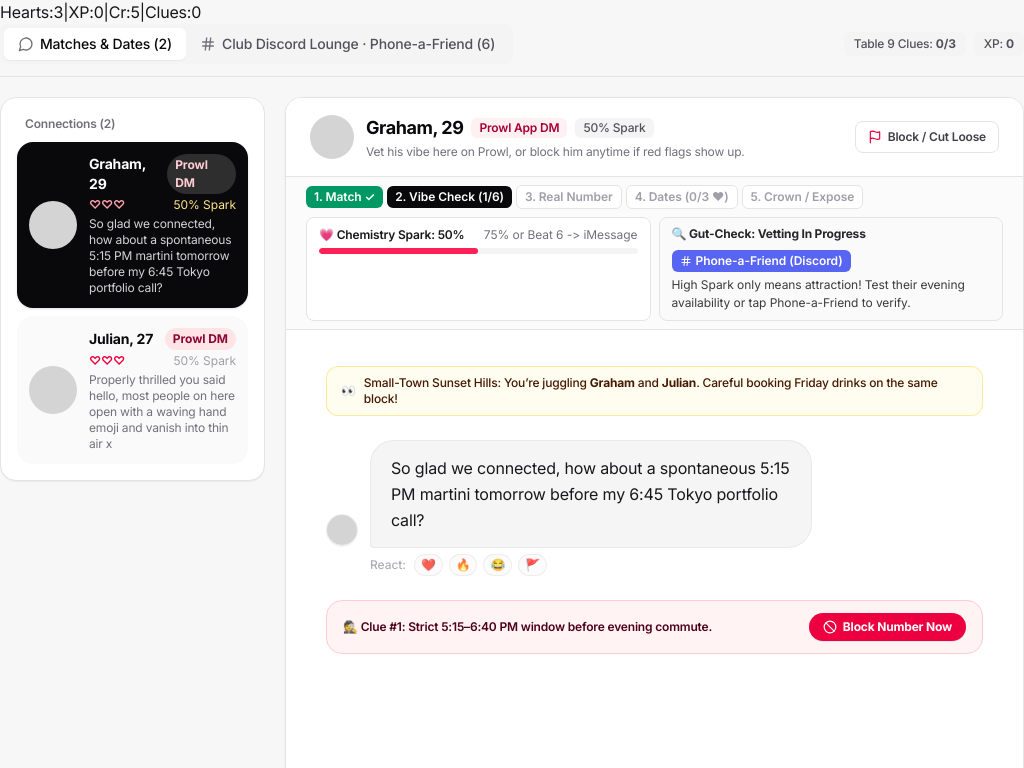
v35 Multi-Match Evolving Chats, Cut-Loose Discernment, Romantic Date Stage & Cub School › awards +25 Discernment XP & Bullet-Dodged Receipt when cutting Trap Graham loose, while showing Bestie self-sabotage check on Genuine Lead Julian
Later steps or results of the test are not shown.
Click the button "Block / Cut Loose".
click(927, 137)  # box [855,121,999,153]
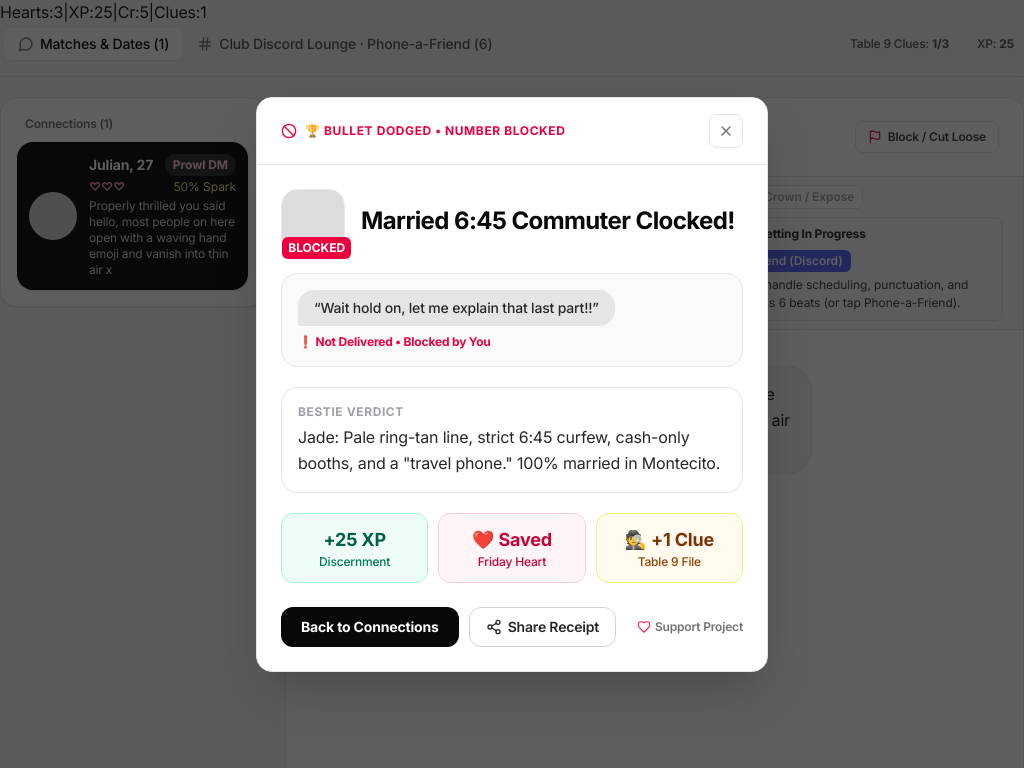
Expected: the text with test id "wallet-summary" shows "Hearts:3|XP:25", [0,2,207,22]
Now the element with test id "bullet-dodged-modal" shows "BULLET DODGED", box [305,122,566,138]
Now the text with test id "wallet-summary" shows "Clues:1", box [0,2,207,22]
